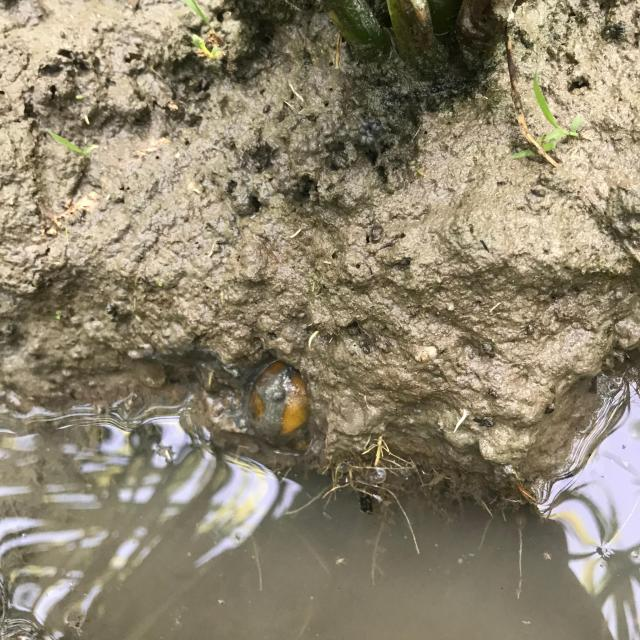rice bug -hama padi-: (244, 358, 312, 448)
